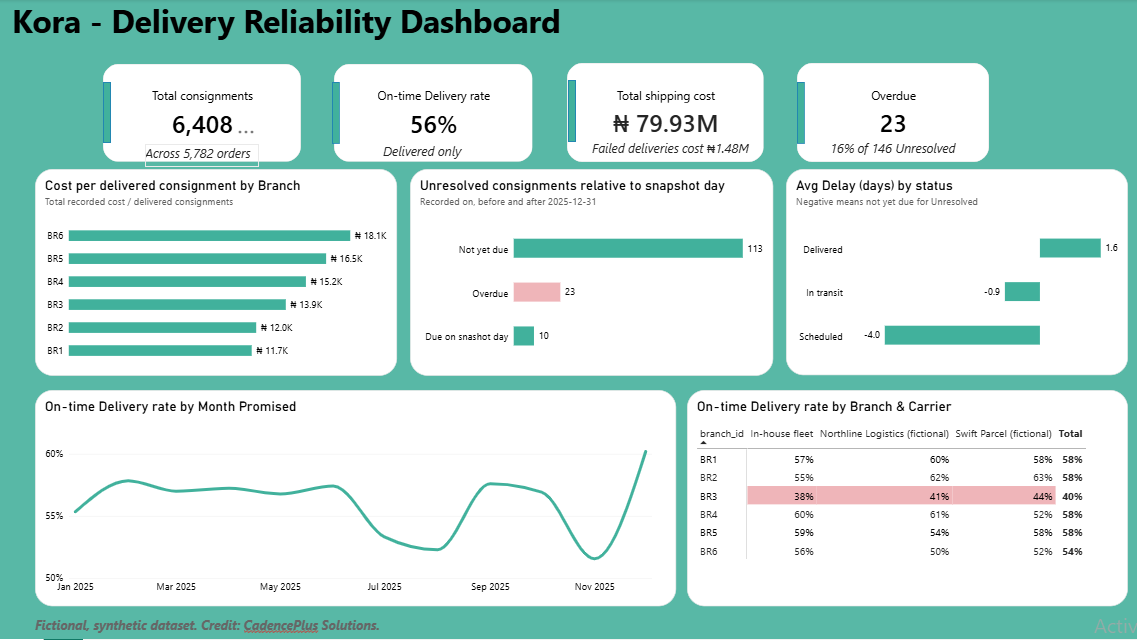

The dashboard page shown, as its layout file describes it:
{"tool":"powerbi","page":{"name":"Page 1","canvas":[1920,1080],"ordinal":0},"visuals":[{"type":"textbox","box":[21.9,0,1332,92.5],"z":0},{"type":"cardVisual","fields":{"Data":["_Measures.On-time Delivery rate"]},"box":[565.9,109.3,335.8,165.4],"z":2},{"type":"cardVisual","fields":{"Data":["_Measures.Overdue"]},"box":[1346.6,108.4,324,167.1],"z":3},{"type":"cardVisual","fields":{"Data":["_Measures.Total recorded shipping cost"]},"box":[957.9,108.4,332.4,167.1],"z":4},{"type":"cardVisual","fields":{"Data":["_Measures.Total consignments"]},"box":[175.5,109.3,334.1,165.4],"z":5},{"type":"textbox","box":[246.4,244.7,192.8,38.6],"z":6},{"type":"textbox","box":[648,241.3,163.9,36.6],"z":7},{"type":"textbox","box":[1000.7,236.2,281.8,50.6],"z":8},{"type":"textbox","box":[1402.3,236.2,227.5,38.6],"z":9},{"type":"shape","box":[175.5,140.1,13.5,102.9],"z":10},{"type":"shape","box":[561.9,140.1,13.5,104.1],"z":11},{"type":"shape","box":[960.2,136.7,13.5,104.6],"z":12},{"type":"shape","box":[1346.6,140.1,13.5,104.1],"z":13},{"type":"clusteredBarChart","title":"Cost per delivered consignment by Branch","fields":{"Category":["deliveries.branch_id"],"Y":["_Measures.Cost per Delivered"]},"box":[60.8,286.9,610.9,349.3],"z":14},{"type":"pivotTable","title":"On-time Delivery rate by Branch & Carrier","fields":{"Columns":["deliveries.carrier"],"Rows":["deliveries.branch_id"],"Values":["_Measures.On-time Delivery rate"]},"box":[1161,659.8,744.2,364.5],"z":15},{"type":"lineChart","title":"On-time Delivery rate by Month Promised","fields":{"Category":["deliveries.Month Promised.Variation.Date Hierarchy.Year"],"Y":["_Measures.On-time Delivery rate"]},"box":[60.8,659.8,1081.7,364.5],"z":16},{"type":"barChart","title":"Avg Delay (days)  by status","fields":{"Category":["deliveries.status"],"Y":["_Measures.Avg Delay Days"]},"box":[1328.1,286.9,577.1,347.6],"z":17},{"type":"barChart","title":"Unresolved consignments relative to snapshot day","fields":{"Category":["deliveries.Promise"],"Y":["_Measures.Total consignments"]},"box":[693.6,286.9,612.6,349.3],"z":18},{"type":"textbox","box":[60.8,1041.2,1260.6,38.8],"z":19}]}

Visuals, with their boxes in screenshot pixels (x1, y1, x2, y2), scaled from the page's 1920x1080 canvas onto the 1137x640 screenshot:
textbox: Rect(13, 0, 802, 55)
cardVisual - _Measures.On-time Delivery rate: Rect(335, 65, 534, 163)
cardVisual - _Measures.Overdue: Rect(797, 64, 989, 163)
cardVisual - _Measures.Total recorded shipping cost: Rect(567, 64, 764, 163)
cardVisual - _Measures.Total consignments: Rect(104, 65, 302, 163)
textbox: Rect(146, 145, 260, 168)
textbox: Rect(384, 143, 481, 165)
textbox: Rect(593, 140, 759, 170)
textbox: Rect(830, 140, 965, 163)
shape: Rect(104, 83, 112, 144)
shape: Rect(333, 83, 341, 145)
shape: Rect(569, 81, 577, 143)
shape: Rect(797, 83, 805, 145)
"Cost per delivered consignment by Branch" clusteredBarChart: Rect(36, 170, 398, 377)
"On-time Delivery rate by Branch & Carrier" pivotTable: Rect(688, 391, 1128, 607)
"On-time Delivery rate by Month Promised" lineChart: Rect(36, 391, 677, 607)
"Avg Delay (days)  by status" barChart: Rect(786, 170, 1128, 376)
"Unresolved consignments relative to snapshot day" barChart: Rect(411, 170, 774, 377)
textbox: Rect(36, 617, 783, 639)
